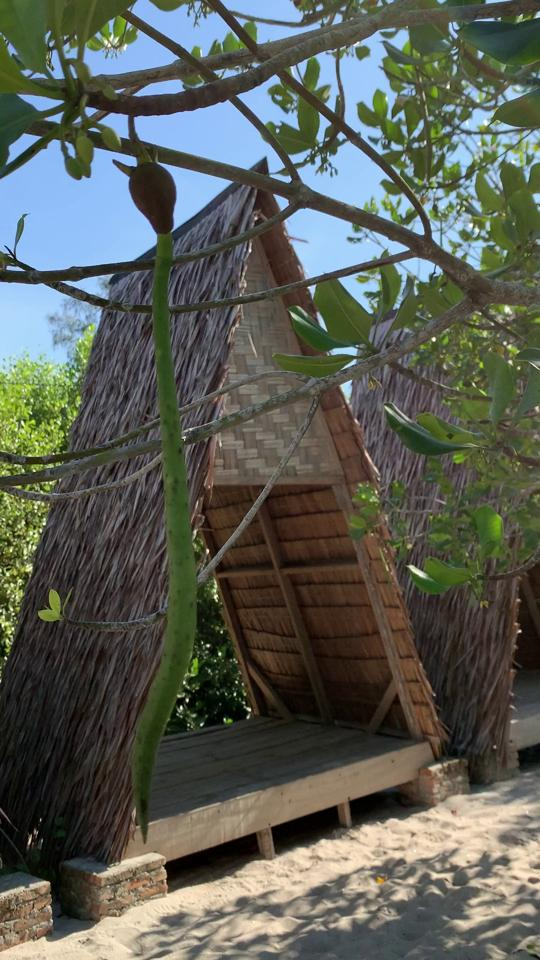setengah matang: (120, 141, 201, 849)
